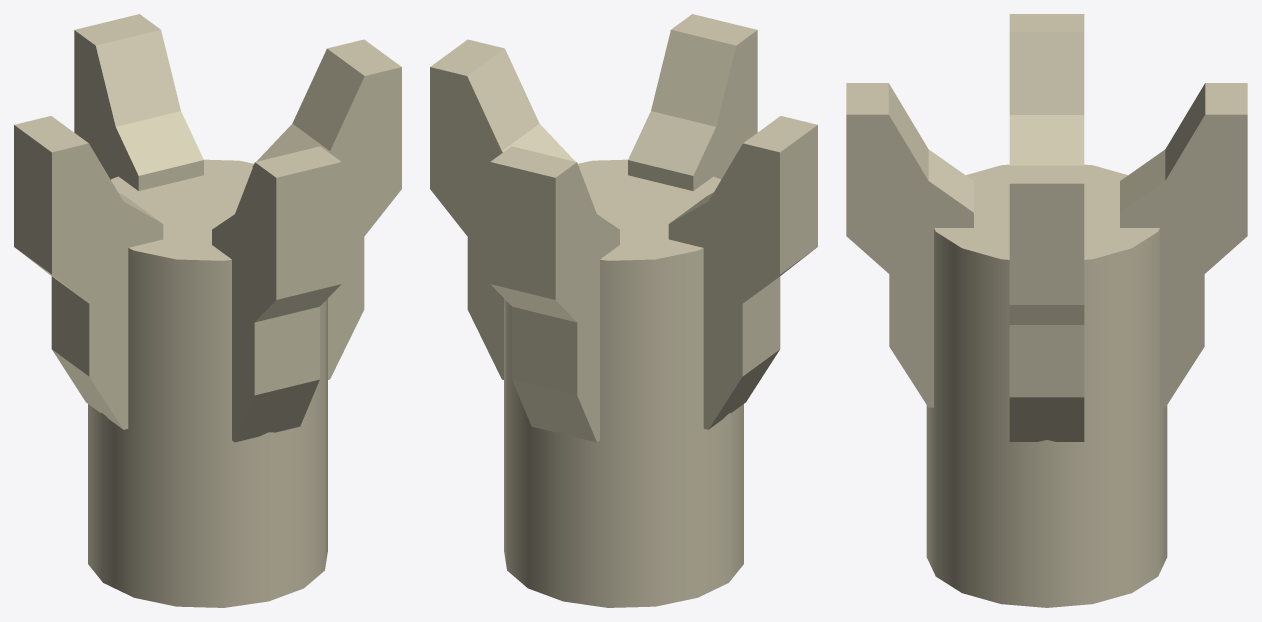
File: Orb_Pedestal_Mesh.fbx
3 views of the same model, side by side, from view 1: azimuth 30°, elevation 25°; view 2: azimuth 150°, elevation 25°; view 3: azimuth 270°, elevation 25° (orthographic).
Visible parts, largest first — view 1: Pedestal; view 2: Pedestal; view 3: Pedestal.
Part boxes in pixels (x1,y1,x2,y2): Pedestal: (14,14,401,607); Pedestal: (430,14,817,607); Pedestal: (846,14,1247,607).
Size of the model in its own units: 300 by 378 by 300.
